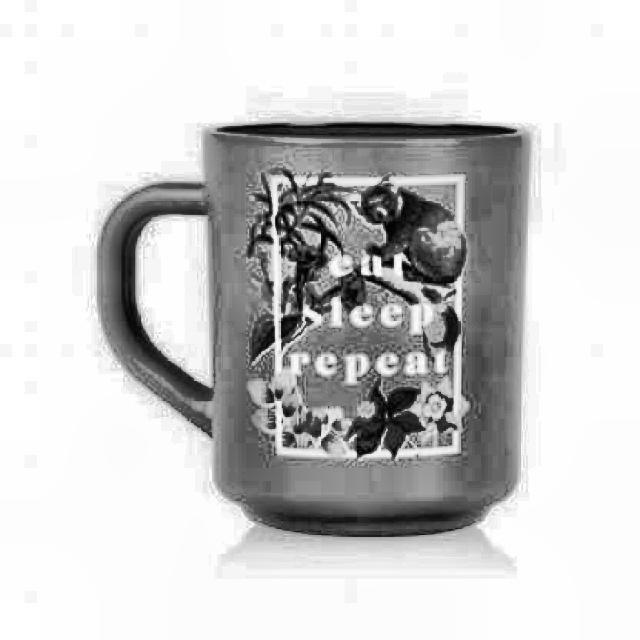Mug: (96, 119, 536, 542)
